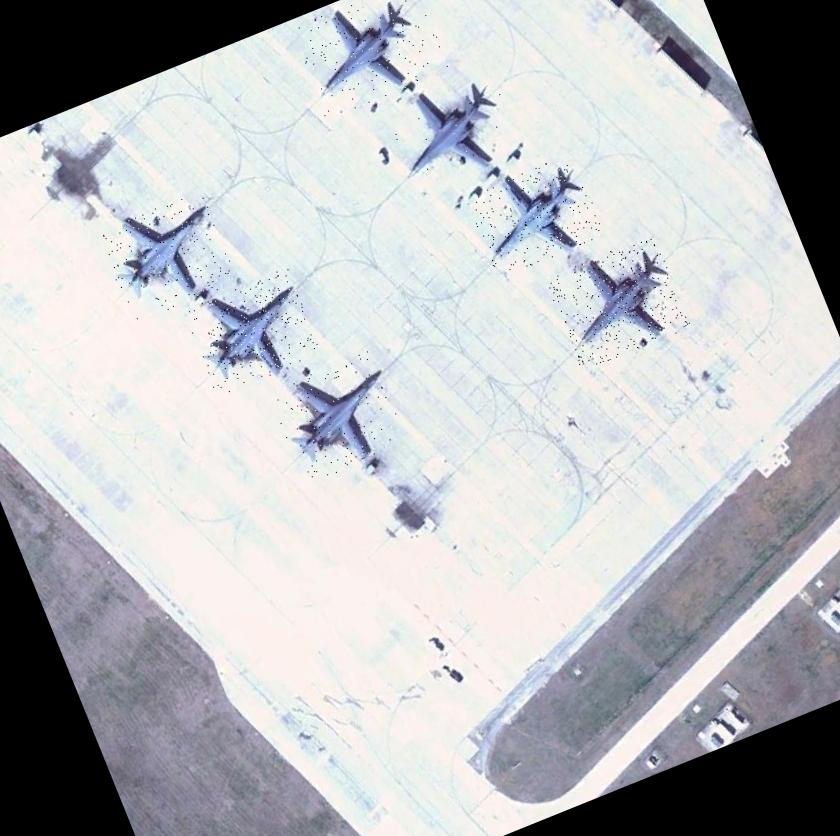A10: (544, 233, 692, 371), (267, 348, 409, 485), (95, 190, 238, 324), (289, 0, 450, 119), (378, 68, 524, 196), (182, 266, 323, 396), (464, 152, 606, 280)
